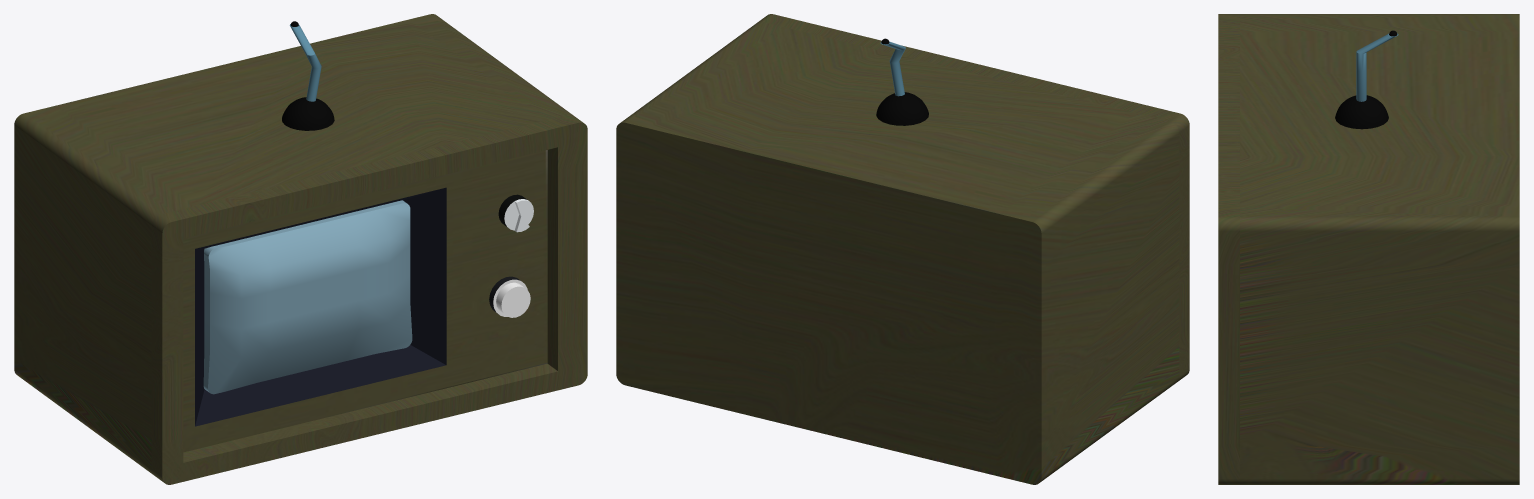
File: Finaltvmodel (1).fbx
3 views of the same model, side by side, from view 1: azimuth 30°, elevation 25°; view 2: azimuth 150°, elevation 25°; view 3: azimuth 270°, elevation 25° (orthographic).
Visible parts, largest first — view 1: pSphere6; view 2: pSphere6; view 3: pSphere6.
Part boxes in pixels (x1,y1,x2,y2): pSphere6: (14, 14, 587, 484); pSphere6: (616, 14, 1189, 484); pSphere6: (1218, 14, 1519, 484).
Size of the model in its own units: 10.04 by 7.87 by 6.06.
